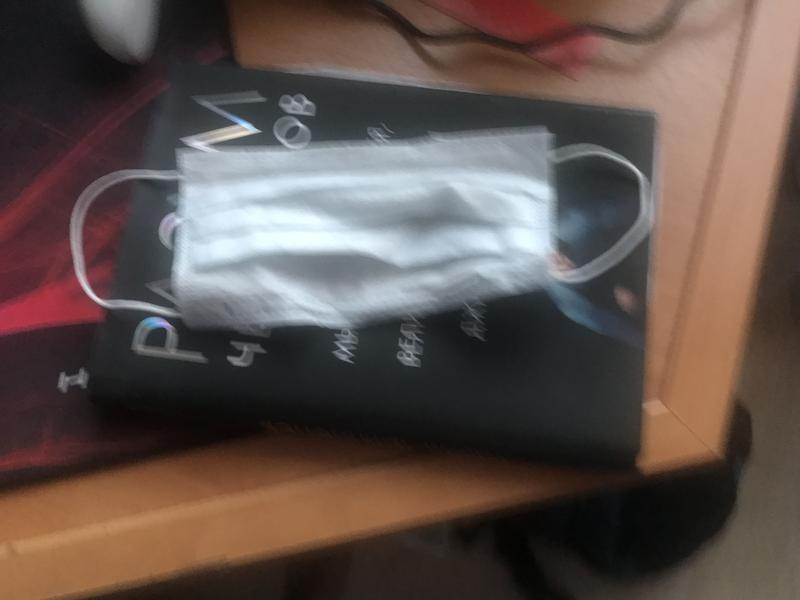medical_mask: (71, 134, 650, 327)
